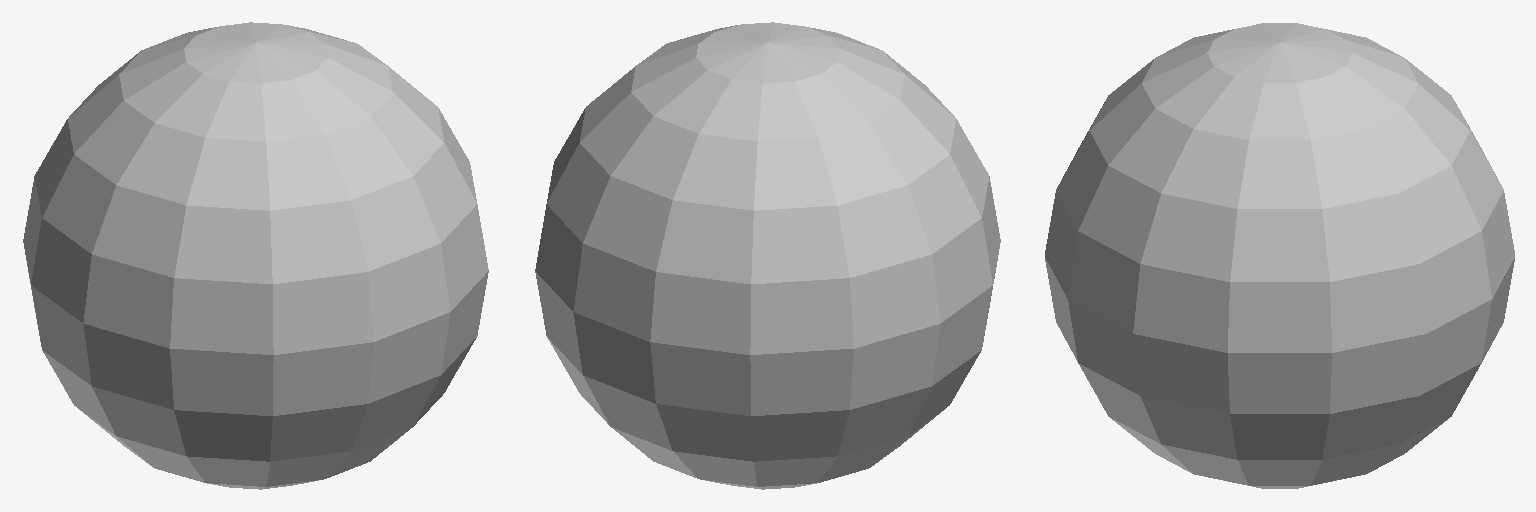
Rendered from sphere_medium_poly.obj.
The picture shows the model from 3 angles: view 1: azimuth 30°, elevation 25°; view 2: azimuth 150°, elevation 25°; view 3: azimuth 270°, elevation 25°; orthographic projection.
Visible parts, largest first — view 1: Sphere_Sphere.002; view 2: Sphere_Sphere.002; view 3: Sphere_Sphere.002.
Part boxes in pixels (bbox=[...]): Sphere_Sphere.002: bbox=[23, 22, 488, 489]; Sphere_Sphere.002: bbox=[535, 22, 1000, 489]; Sphere_Sphere.002: bbox=[1045, 23, 1514, 488].
Bounding box in the file's own units: 0.9749 × 1 × 1.